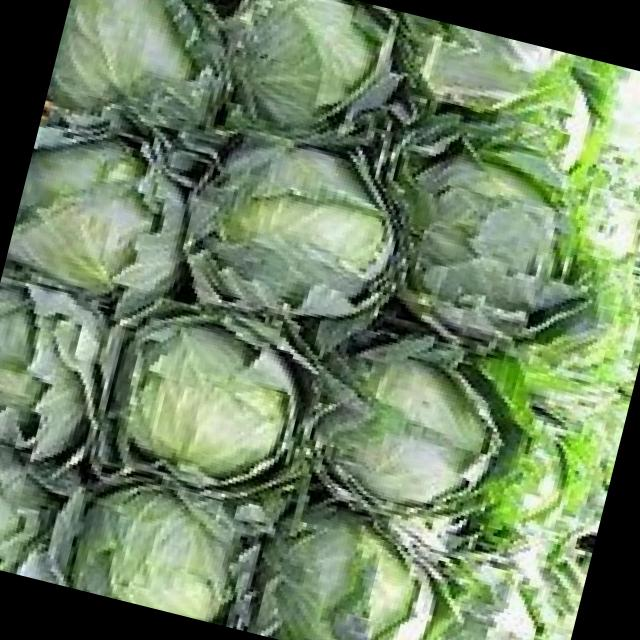cabbage: (212, 144, 402, 323), (114, 312, 299, 490), (4, 127, 171, 298), (60, 472, 242, 624), (330, 354, 496, 518), (48, 0, 210, 138), (271, 504, 430, 640), (228, 0, 384, 132)
